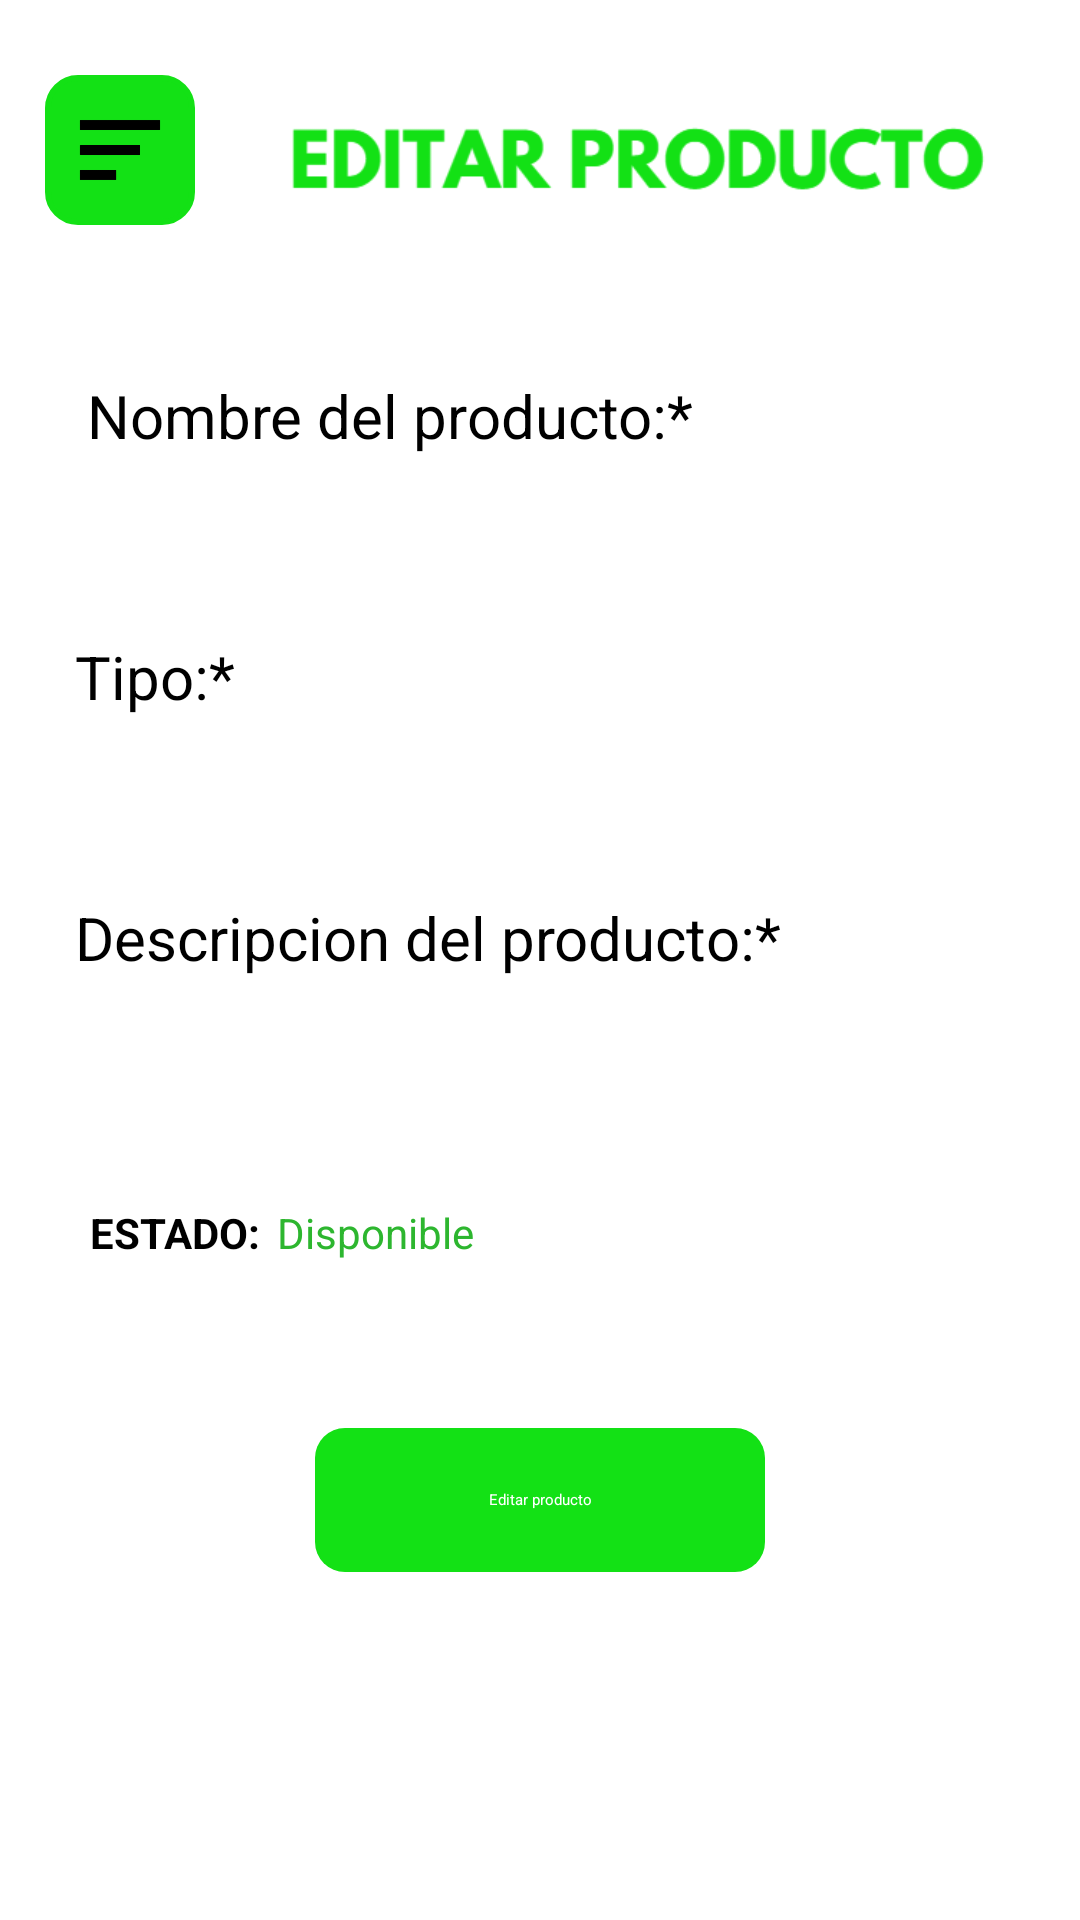

Named icons in this screenshot (1080x1920) and their bounding boxes, (x1, y1, x2, y2):
menu: (80, 120, 160, 180)
